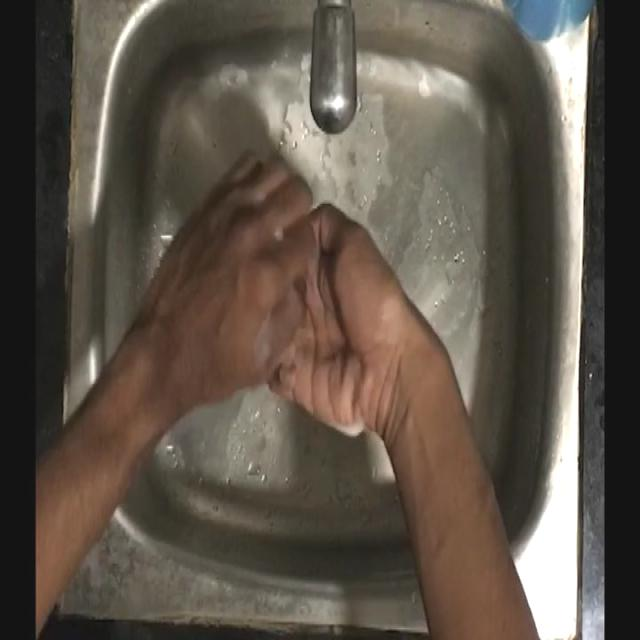step_4: (159, 155, 396, 422)
